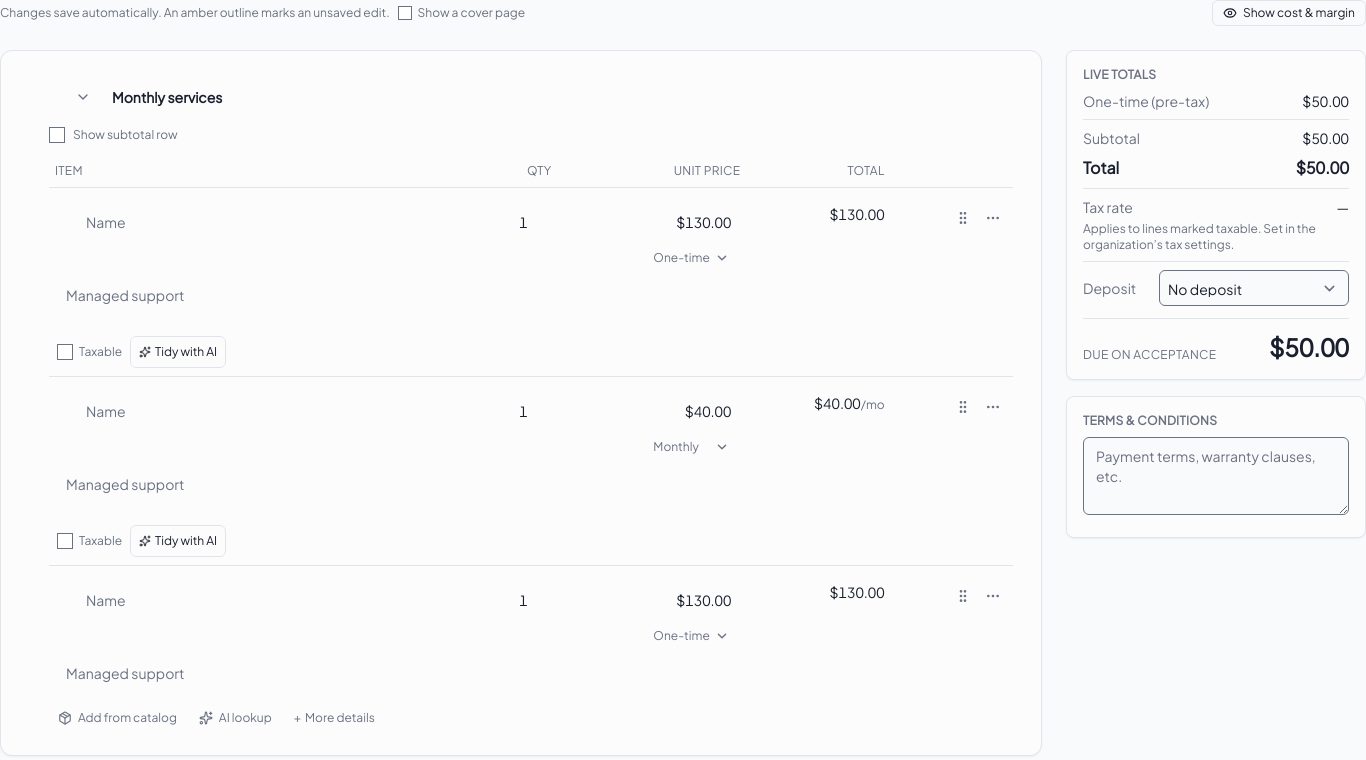
Test: QuoteEditor — per-line cost/markup/net strip › rail shows net profit by cadence and flags lines missing cost
The full add-line picker collapses behind a disclosure (ghost row is the fast lane).
Click the button with test id "quote-block-add-line-toggle-blk-1" at (334, 718), box x1=285 y1=705 x2=384 y2=731
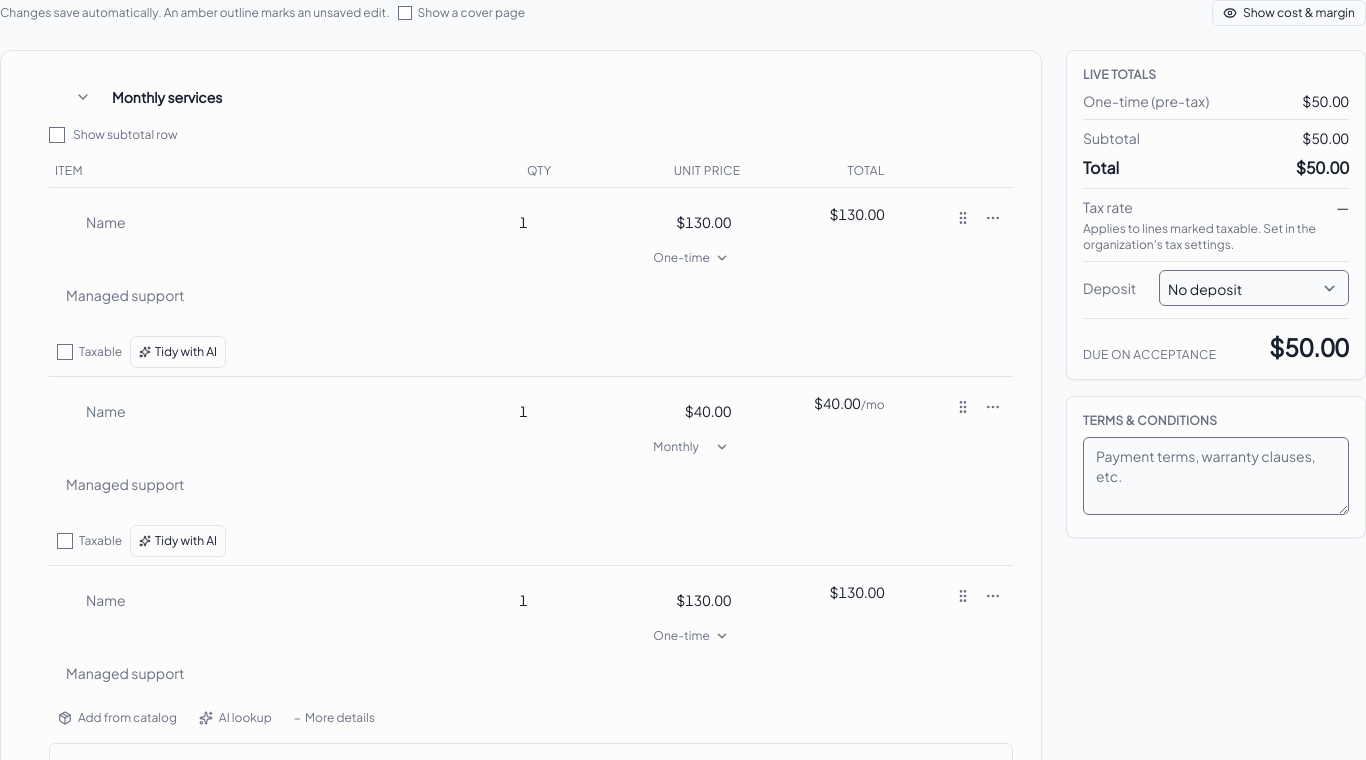
Click the button with test id "quote-editor-toggle-internal" at (1289, 13), box x1=1212 y1=0 x2=1365 y2=26
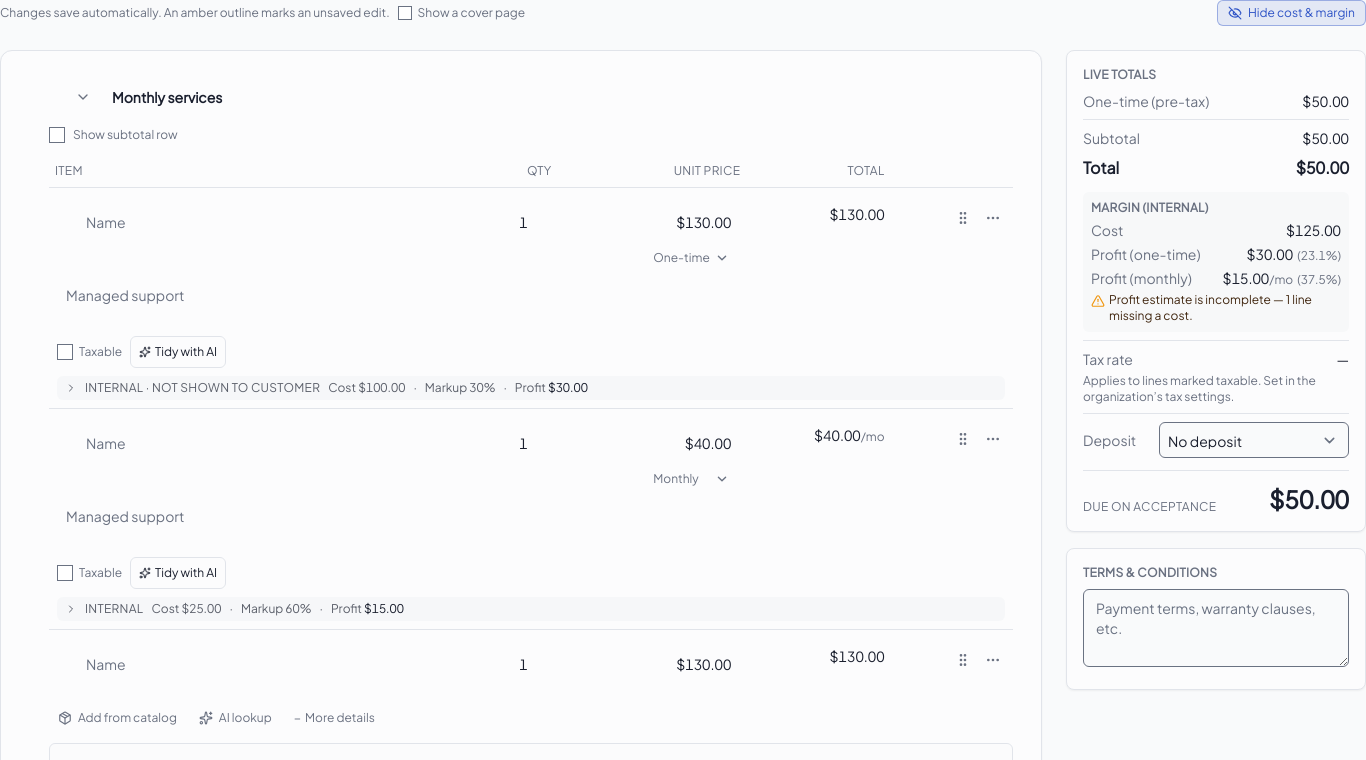
Expected: the text with test id "quote-margin-cost" reads "$125.00", x1=1286 y1=221 x2=1341 y2=239
Expected: the element with test id "quote-margin-net-onetime" shows "$30.00", x1=1246 y1=245 x2=1293 y2=263
Expected: the element with test id "quote-margin-net-monthly" shows "$15.00", x1=1223 y1=269 x2=1269 y2=287
